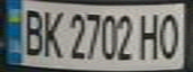0: (100, 10, 118, 61)
2: (63, 8, 87, 60), (115, 10, 136, 61)
7: (81, 9, 103, 61)
B: (18, 5, 45, 57)
H: (136, 9, 163, 61)
K: (39, 6, 66, 58)
O: (157, 8, 184, 61)
